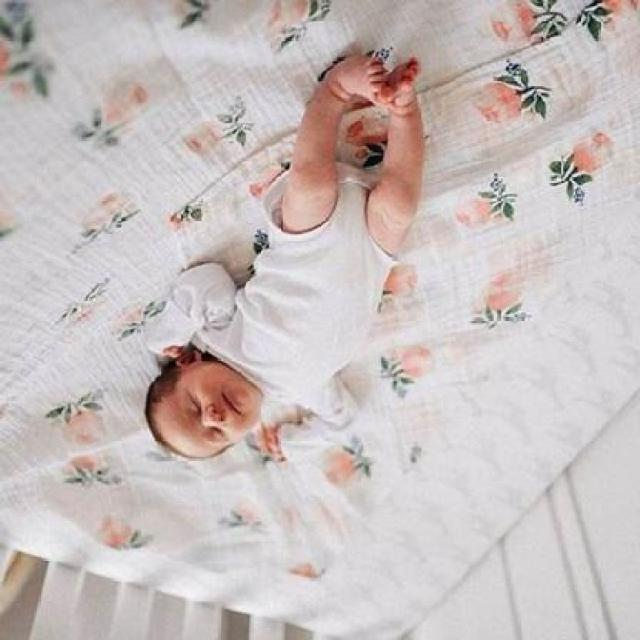baby: (140, 53, 428, 464)
